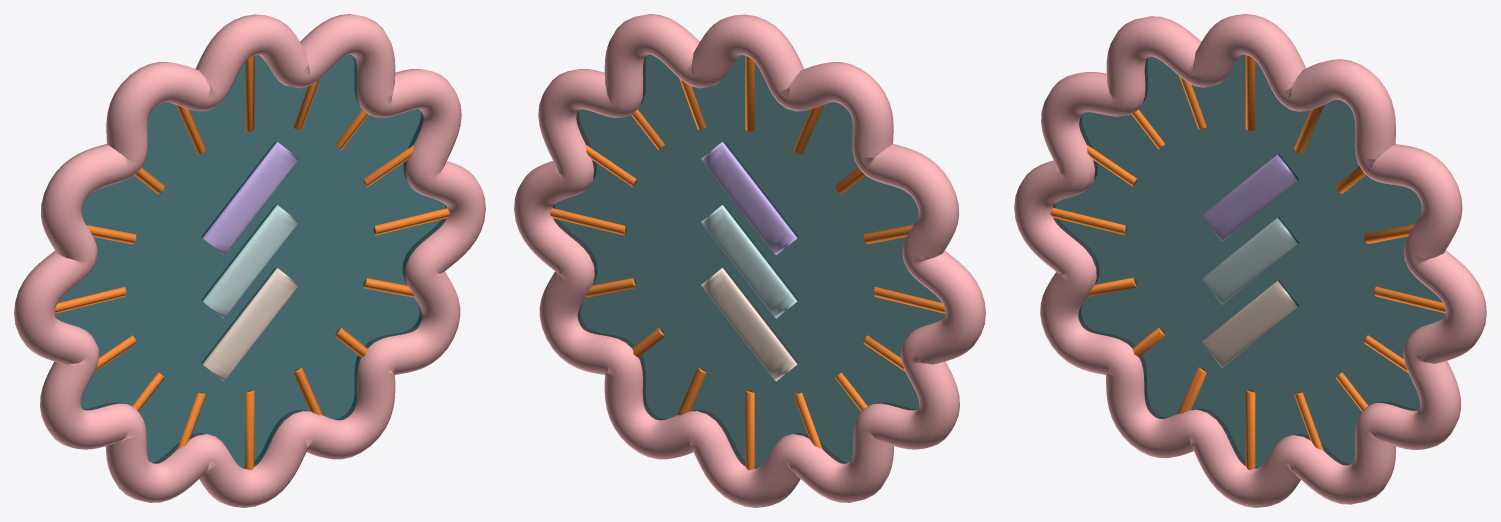
Rendered from IridescentBadgeRem.glb.
3 views of the same model, side by side, from view 1: azimuth 30°, elevation 25°; view 2: azimuth 150°, elevation 25°; view 3: azimuth 330°, elevation 25° (orthographic).
Bounding box in the file's own units: 5.09 × 5.09 × 0.3859.
